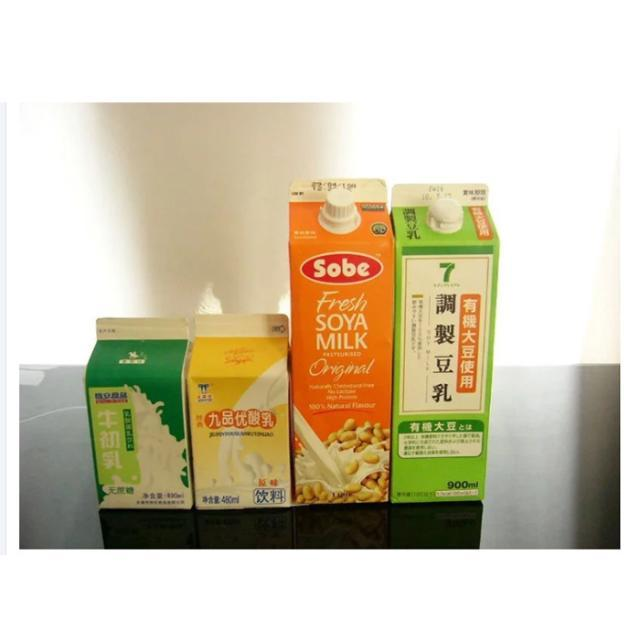Carton: (380, 176, 510, 512), (278, 150, 399, 510), (70, 302, 210, 526), (182, 304, 305, 522)
